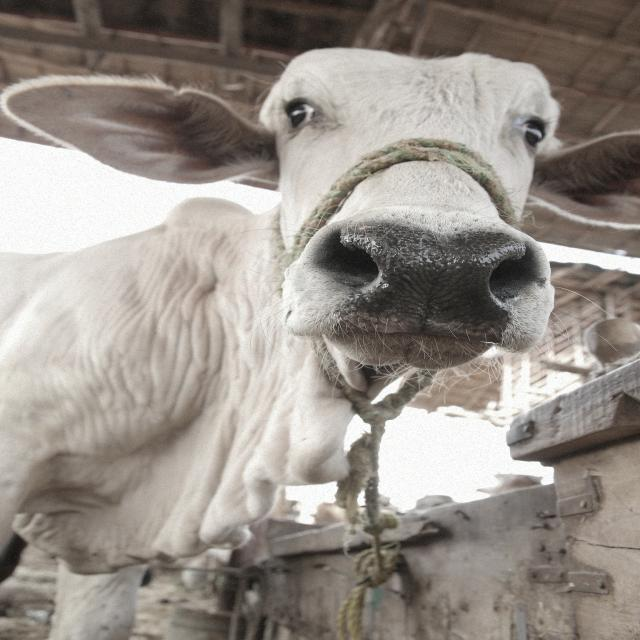muzzles: (314, 215, 542, 340)
